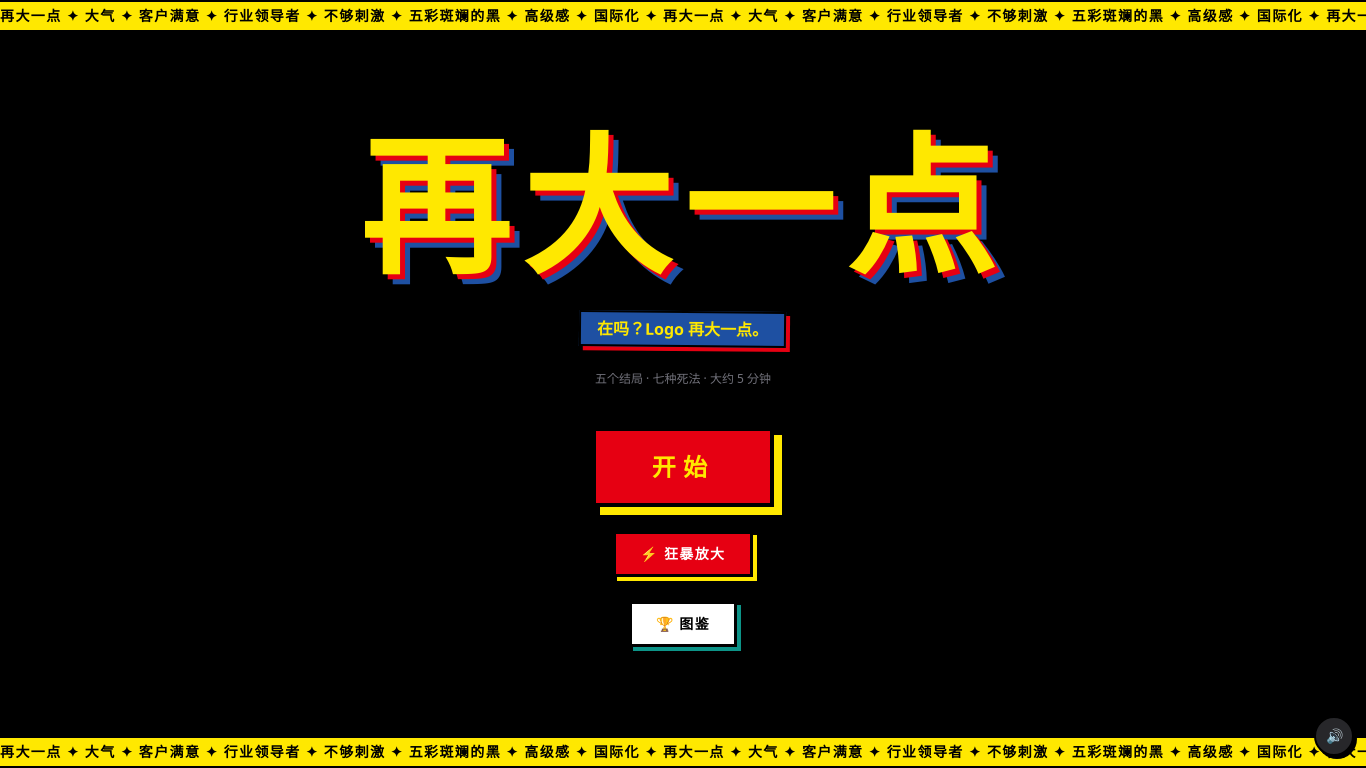
Test: enters rage mode from intro and returns without changing the story
Click the button "⚡ 狂暴放大": click(683, 554) [614, 530, 752, 576]
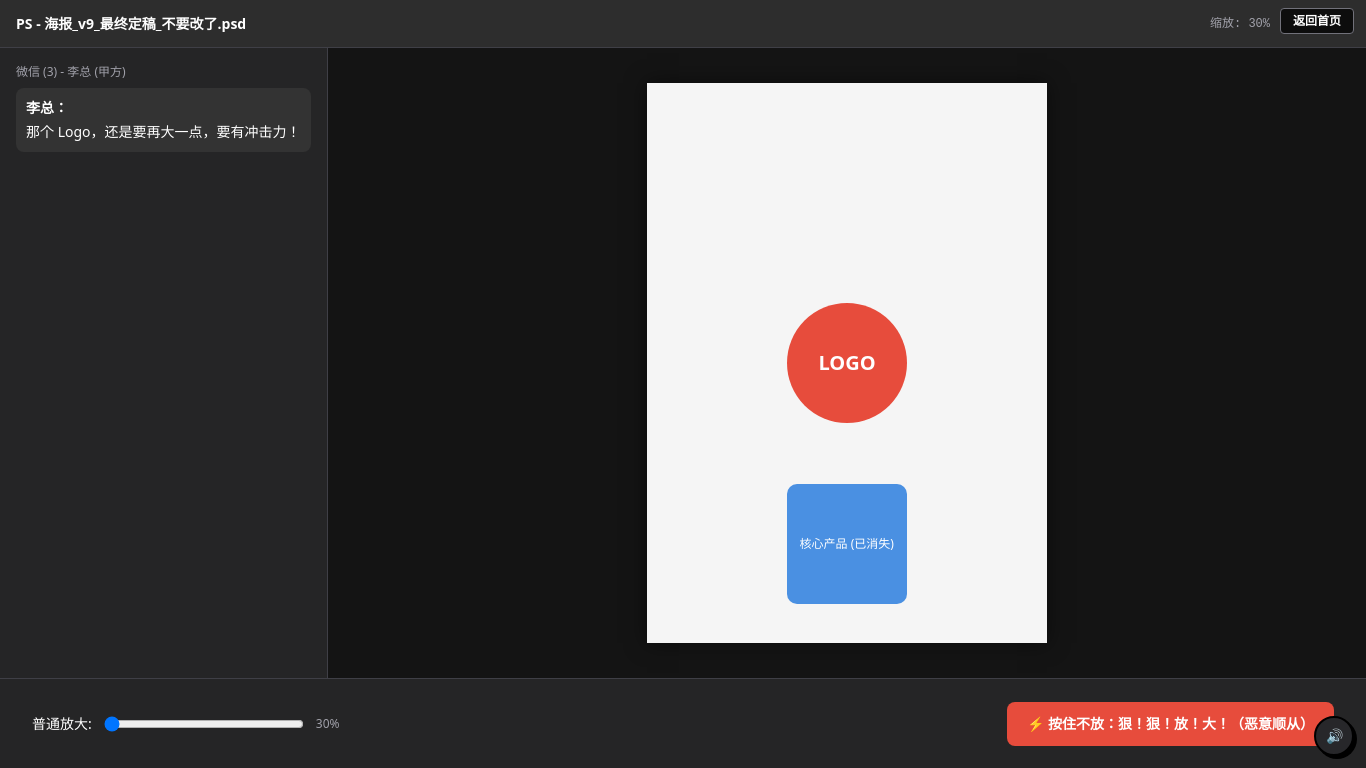
Expected: the text "PS - 海报_v9_最终定稿_不要改了.psd" is shown, [16, 14, 246, 34]
Click the button "返回首页": click(1317, 21) [1280, 8, 1354, 34]
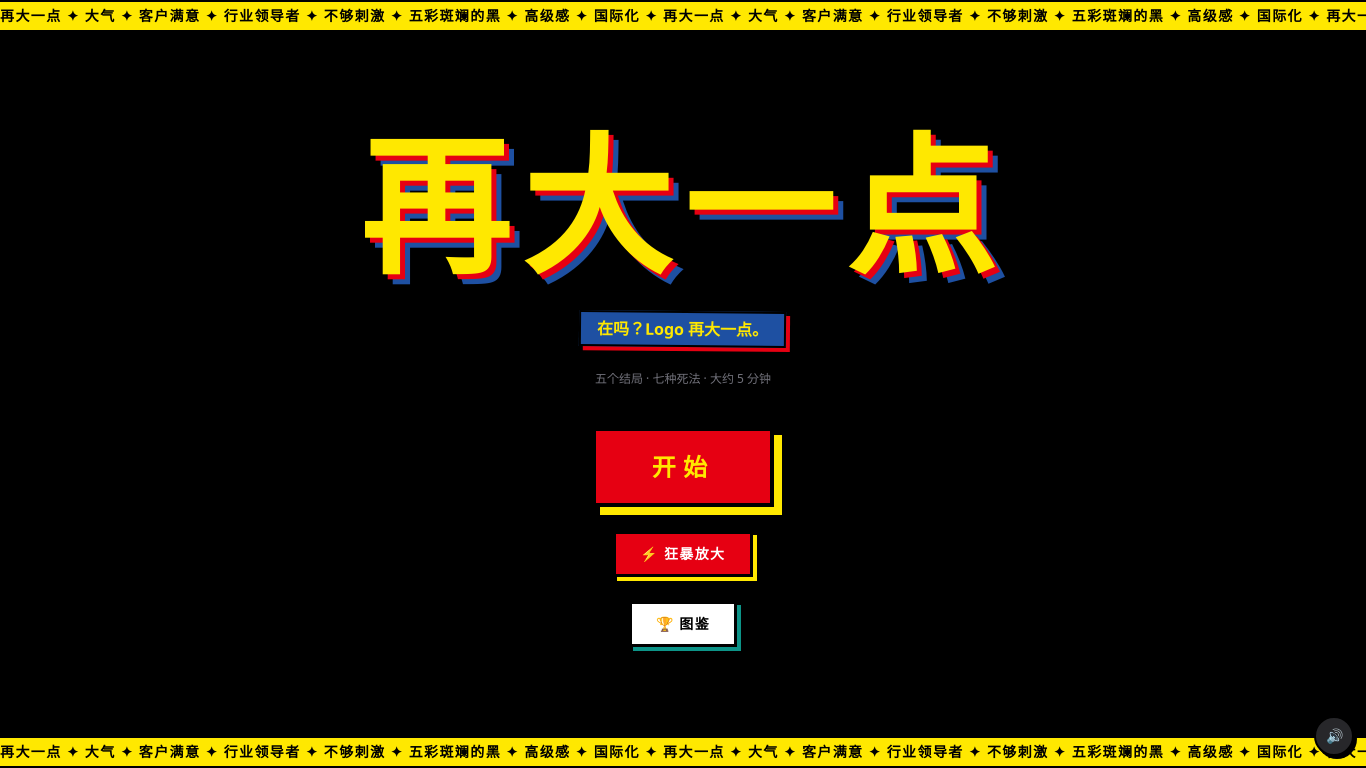
Expected: the button "开始" is shown, [592, 426, 774, 506]
